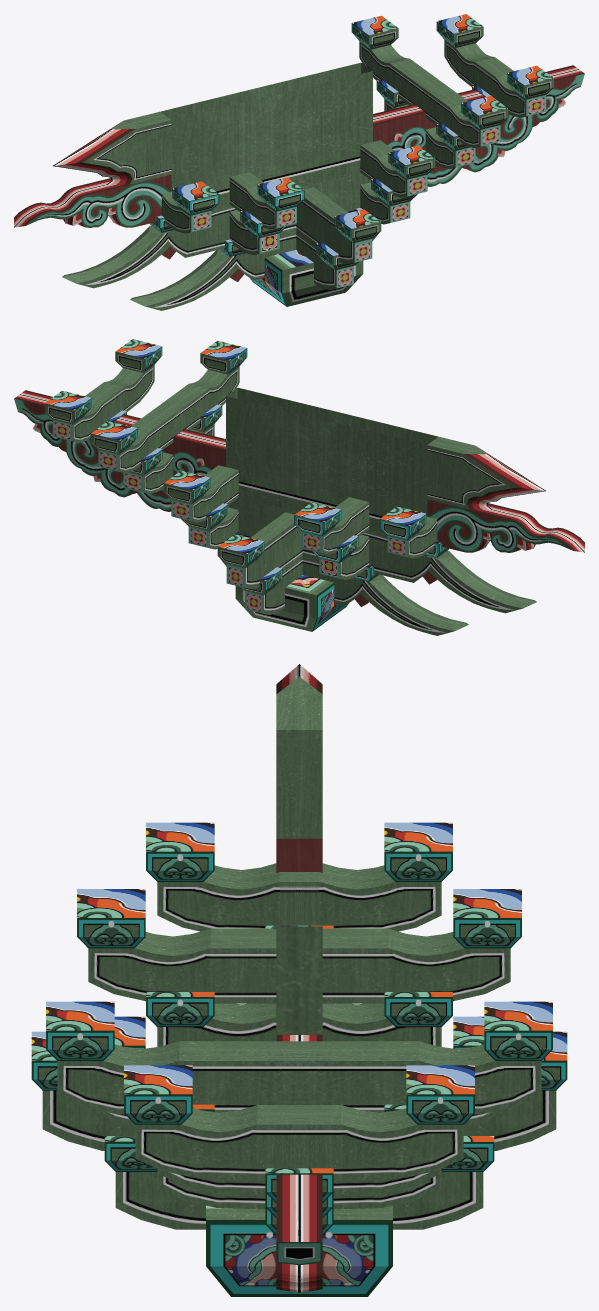
The model's file is SM_Gongpo02A.fbx.
3 renders of one model, top to bottom at view 1: azimuth 30°, elevation 25°; view 2: azimuth 150°, elevation 25°; view 3: azimuth 270°, elevation 25°, orthographic. The views are drawn at different scales.
Parts seen in each view (by area): view 1: SM_Gongpo02A; view 2: SM_Gongpo02A; view 3: SM_Gongpo02A.
Part boxes in pixels (x1=…): SM_Gongpo02A: x1=14, y1=14, x2=584, y2=310; SM_Gongpo02A: x1=14, y1=339, x2=584, y2=635; SM_Gongpo02A: x1=31, y1=664, x2=567, y2=1296.
Size of the model in its own units: 307 by 126 by 106.
